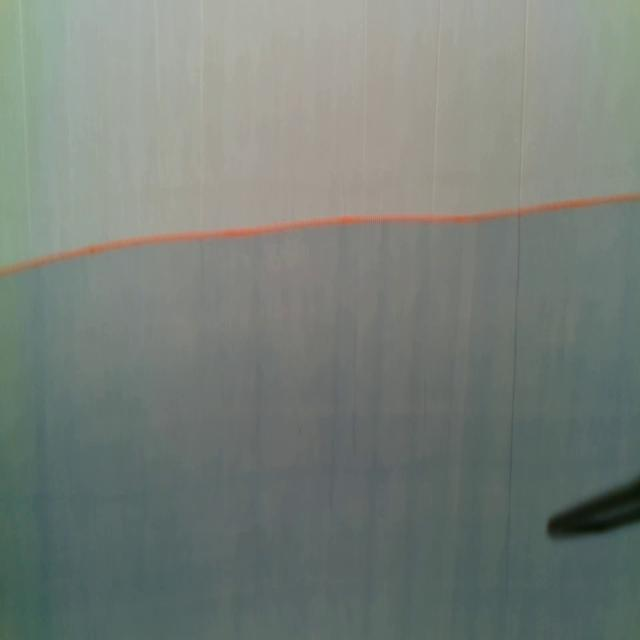crease: (504, 0, 530, 571), (14, 3, 38, 262), (429, 0, 443, 216), (195, 0, 207, 234), (360, 0, 372, 217)
